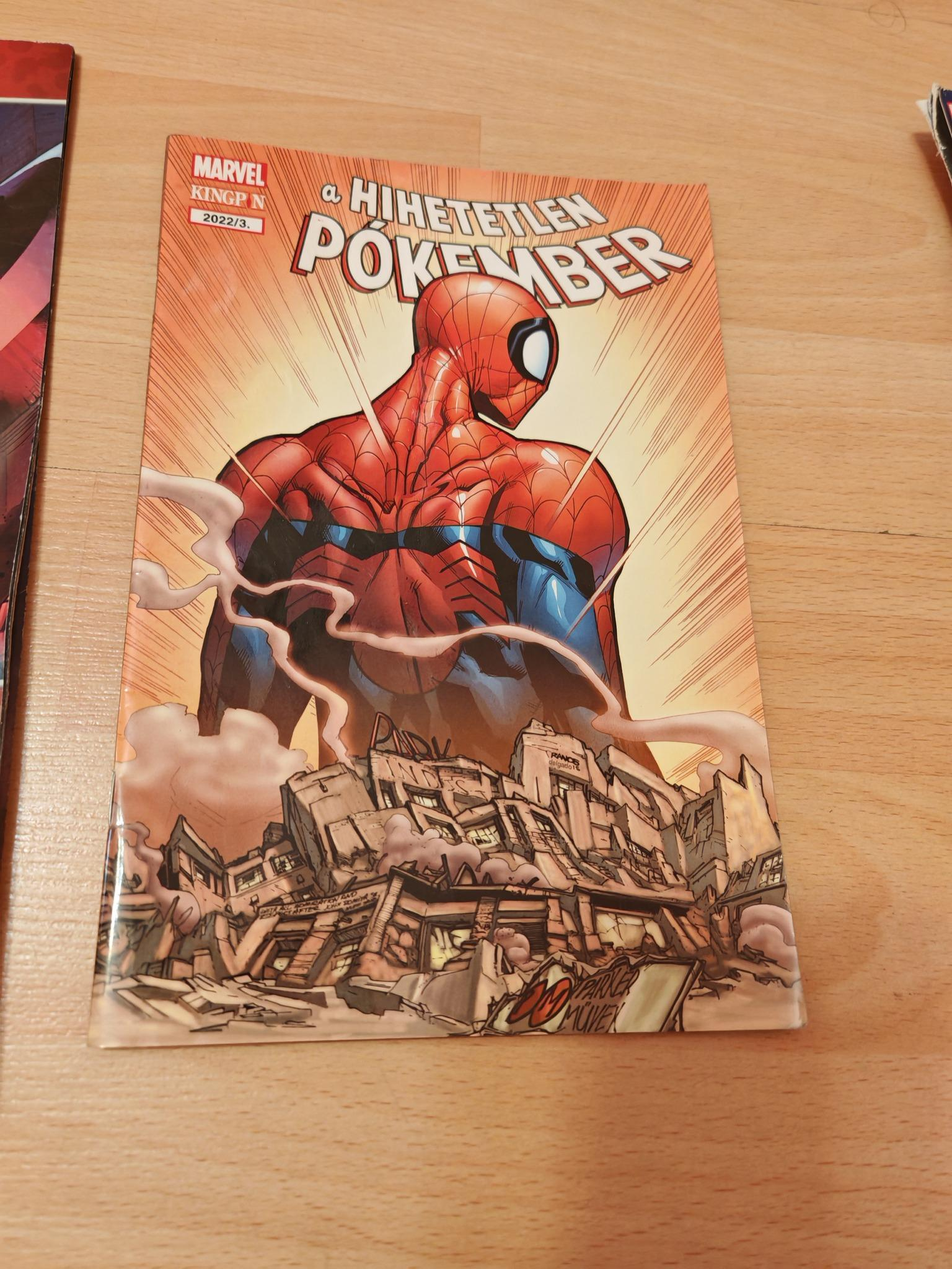comic: (90, 135, 875, 1105)
